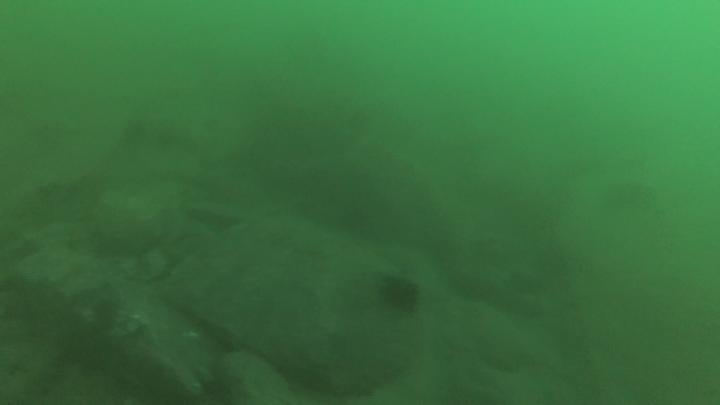echinus: (380, 274, 420, 311)
